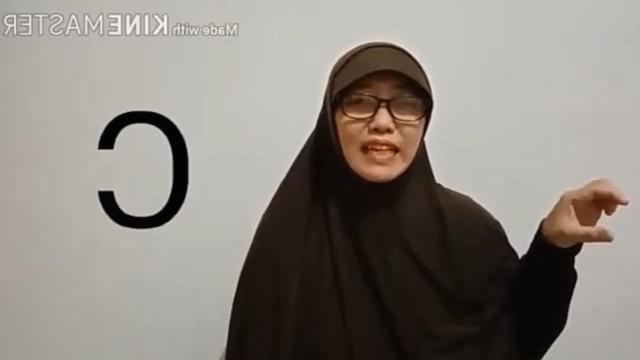C: (546, 174, 628, 248)
